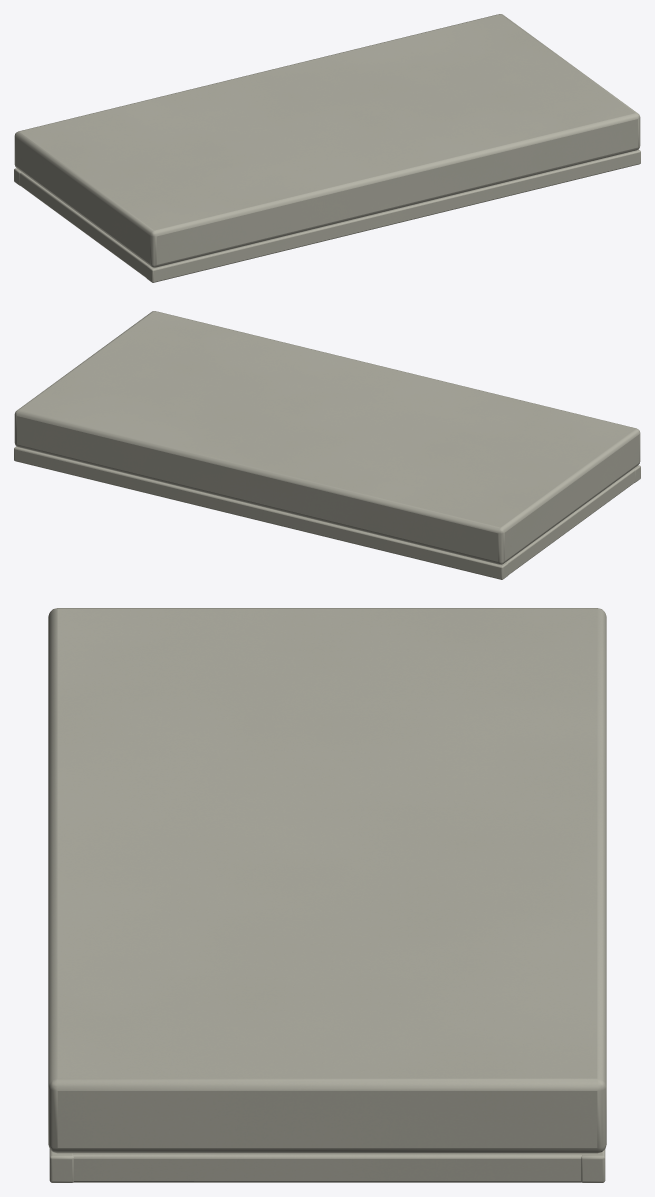
The model's file is fixture_prismatic.gltf.
3 renders of one model, top to bottom at view 1: azimuth 30°, elevation 25°; view 2: azimuth 150°, elevation 25°; view 3: azimuth 270°, elevation 25°, orthographic. The views are drawn at different scales.
Visible parts, largest first — view 1: fixture_prismatic; view 2: fixture_prismatic; view 3: fixture_prismatic.
Boxes of the visible parts, x1=… form: fixture_prismatic: x1=14, y1=14, x2=640, y2=282; fixture_prismatic: x1=14, y1=311, x2=640, y2=579; fixture_prismatic: x1=48, y1=608, x2=606, y2=1182.
Bounding box in the file's own units: 1.21 × 0.136 × 0.596.
Materials: 3 (3 with a texture image).
